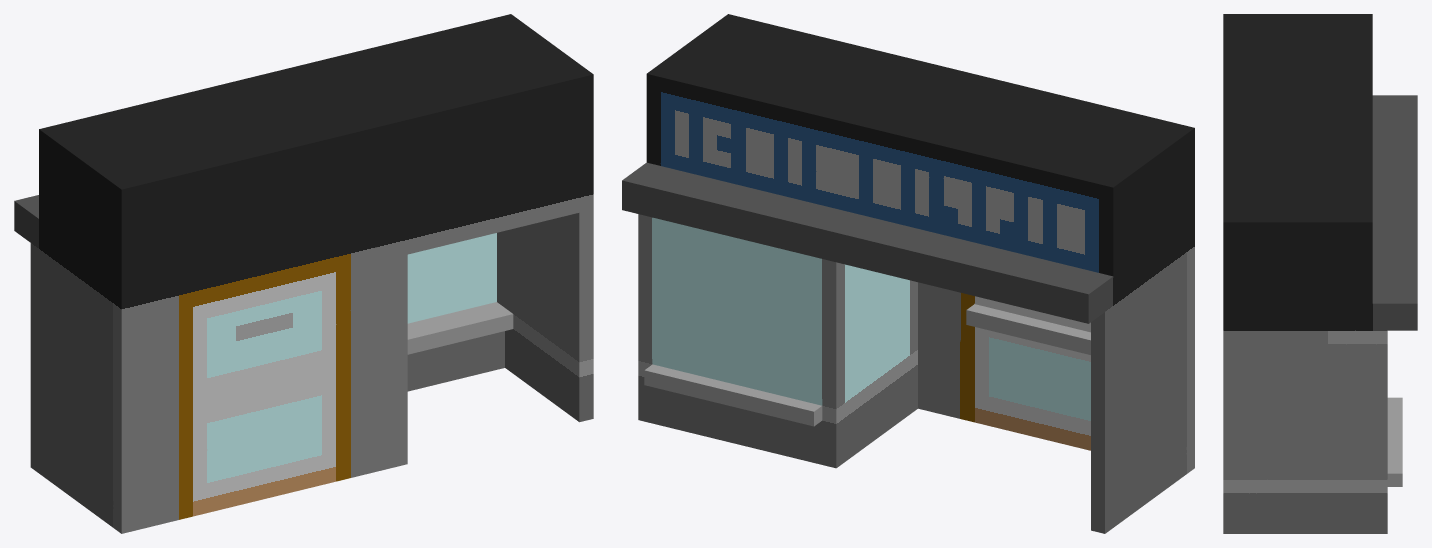
File: obj_store13.dae
3 renders of one model, left to right at view 1: azimuth 30°, elevation 25°; view 2: azimuth 150°, elevation 25°; view 3: azimuth 270°, elevation 25°, orthographic. The views are drawn at different scales.
Visible parts, largest first — view 1: obj_store13; view 2: obj_store13; view 3: obj_store13.
Part boxes in pixels (x1,y1,x2,y2): obj_store13: (14, 14, 593, 533); obj_store13: (622, 14, 1194, 533); obj_store13: (1223, 14, 1417, 533).
Bounding box in the file's own units: 3.3 × 1.3 × 2.3.
Materials: 1 (1 with a texture image).
